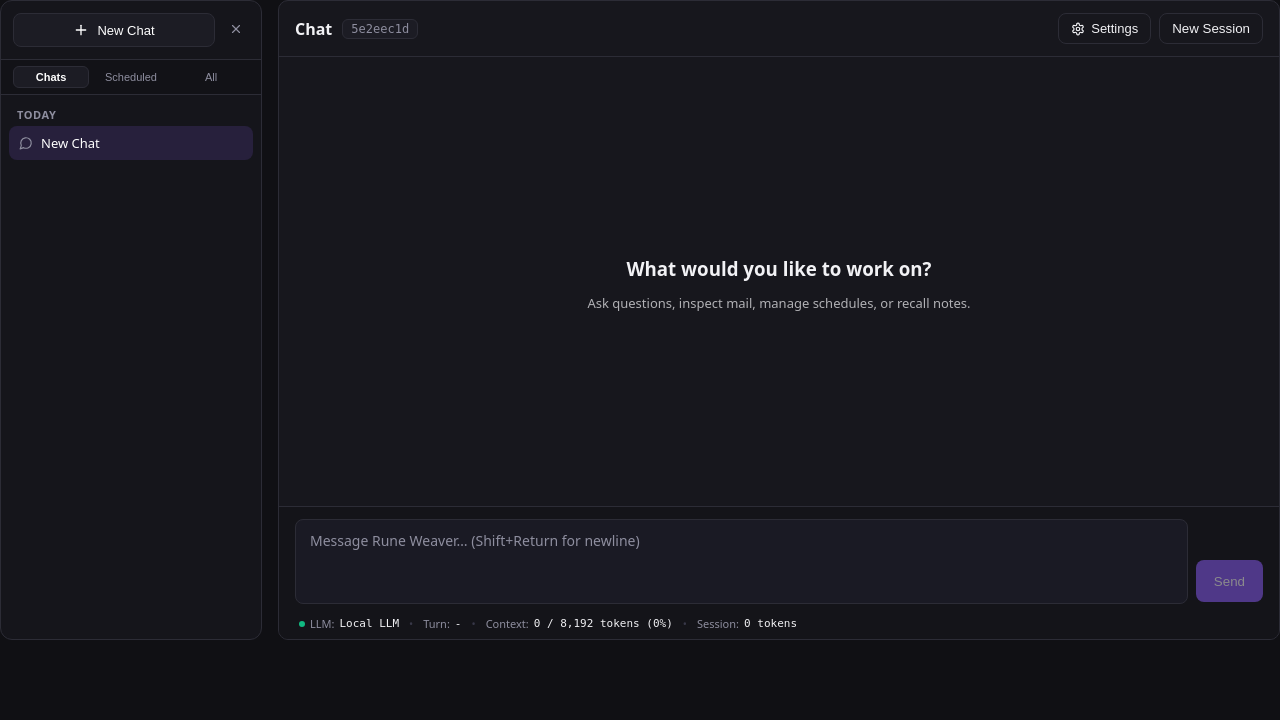
Test case: ChatView › starts a new session clearing messages
This screenshot has width=1280, height=720.
Type "hi" into the text box named "Chat input" at [741, 562], box top-left (295, 519), bottom-right (1188, 604)
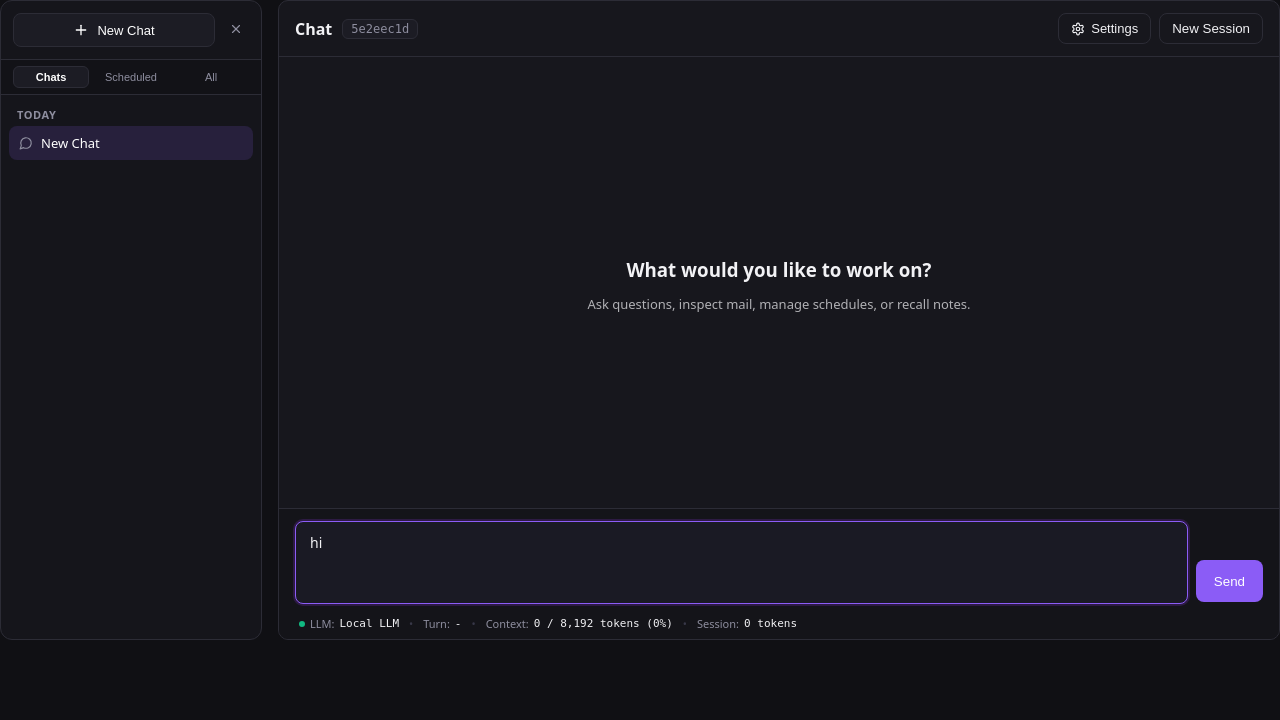
Click the button "Send" at [1229, 581], box top-left (1196, 560), bottom-right (1263, 602)
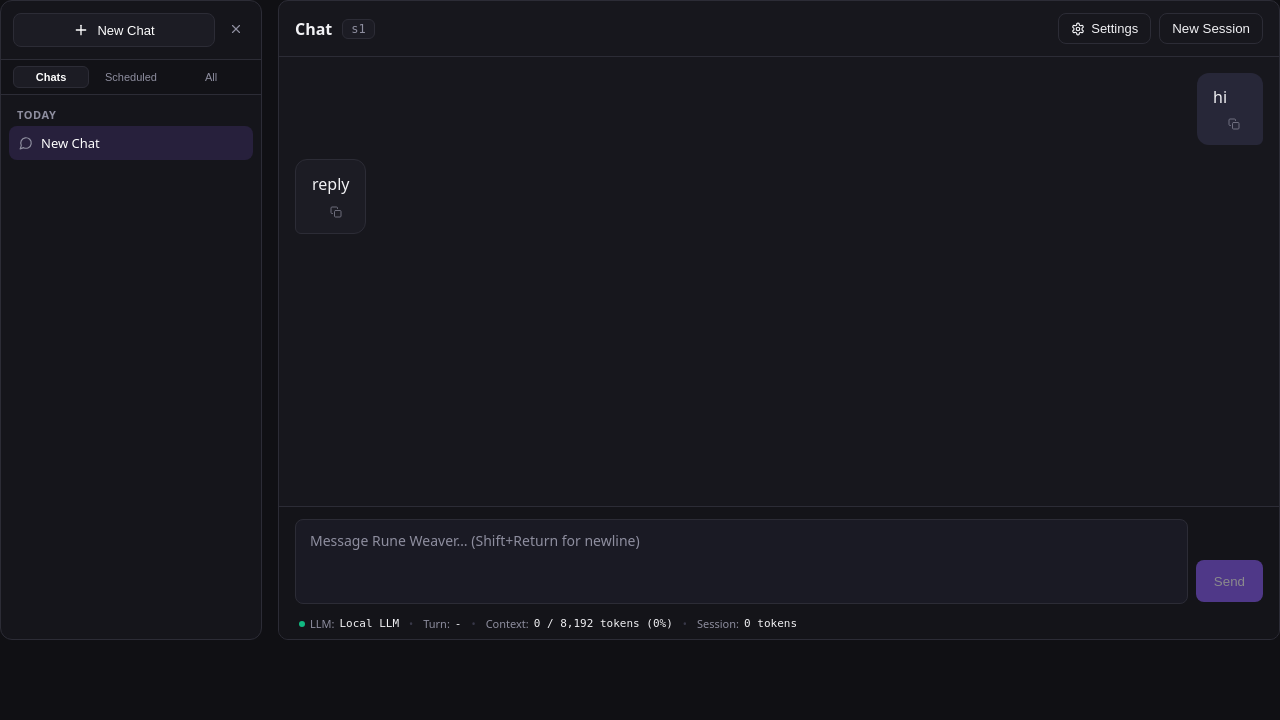
Result: the text "reply" is shown at top-left (312, 172), bottom-right (350, 197)
Click the button "New Session" at [1211, 28], box top-left (1159, 13), bottom-right (1263, 44)
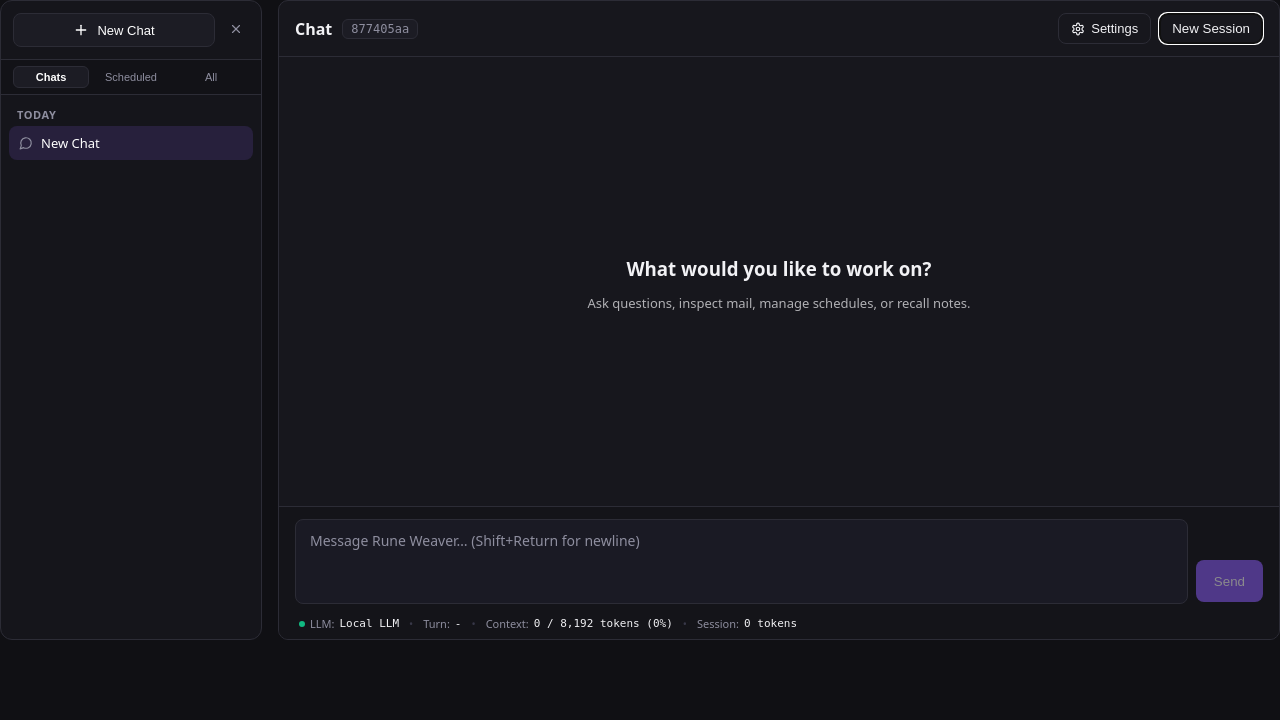
Result: the text "reply" is gone
